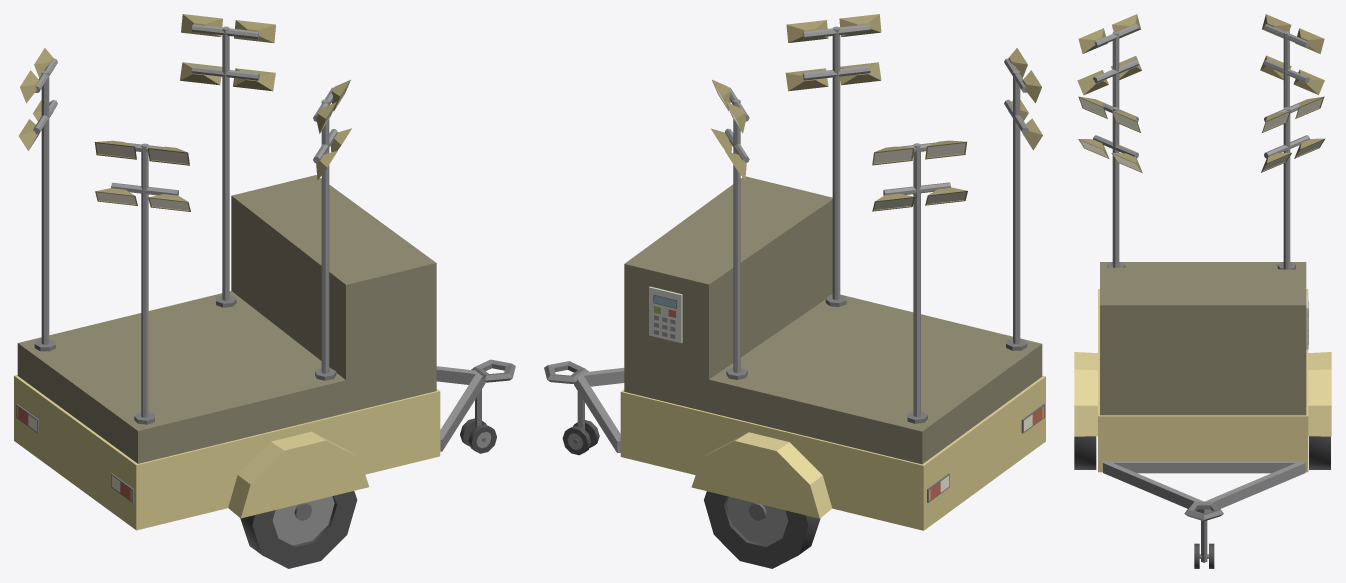
The model's file is kar14.fbx.
3 views of the same model, side by side, from view 1: azimuth 30°, elevation 25°; view 2: azimuth 150°, elevation 25°; view 3: azimuth 270°, elevation 25° (orthographic). The views are drawn at different scales.
Parts seen in each view (by area): view 1: Cylinder_6, Cylinder, Cylinder_3; view 2: Cylinder_6, Cylinder_3_2, Cylinder_8; view 3: Cylinder_6, Cylinder, Cylinder_3_2.
Boxes of the visible parts, x1,y1,x2,y2 form: Cylinder_6: (14, 14, 515, 530); Cylinder: (240, 491, 357, 568); Cylinder_3: (468, 424, 496, 453); Cylinder_6: (544, 14, 1045, 530); Cylinder_3_2: (704, 491, 820, 568); Cylinder_8: (562, 425, 590, 455); Cylinder_6: (1074, 14, 1331, 562); Cylinder: (1074, 436, 1096, 469); Cylinder_3_2: (1309, 436, 1330, 469).
Size of the model in its own units: 475 by 431 by 267.
